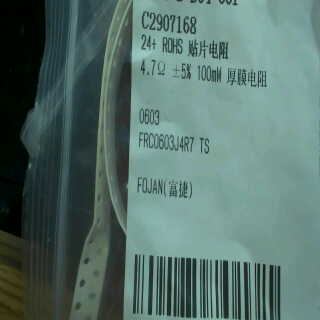4.7R: (140, 59, 169, 77)
